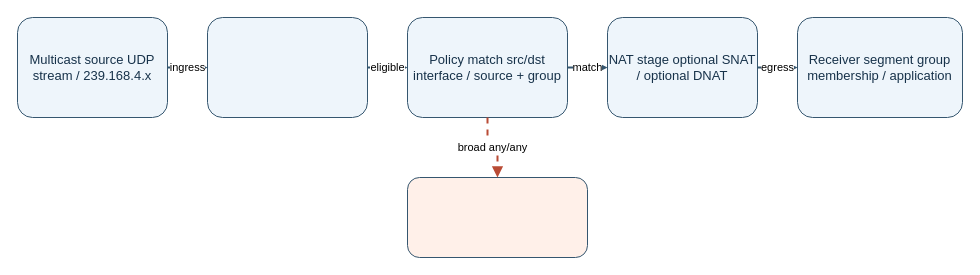
The diagram is 980 pixels wide and 275 high, and some of its shapes have lost their labels. The shapes that lost their labels are listed below. From the top down, each one's box as (x1, y1, x2, y2) in pixels, then its label:
(206, 16, 368, 118): Forwarding gate multicast-forward / TTL > 1
(406, 176, 588, 258): NPU vlink loop risk same VDOM / any-to-any scope
